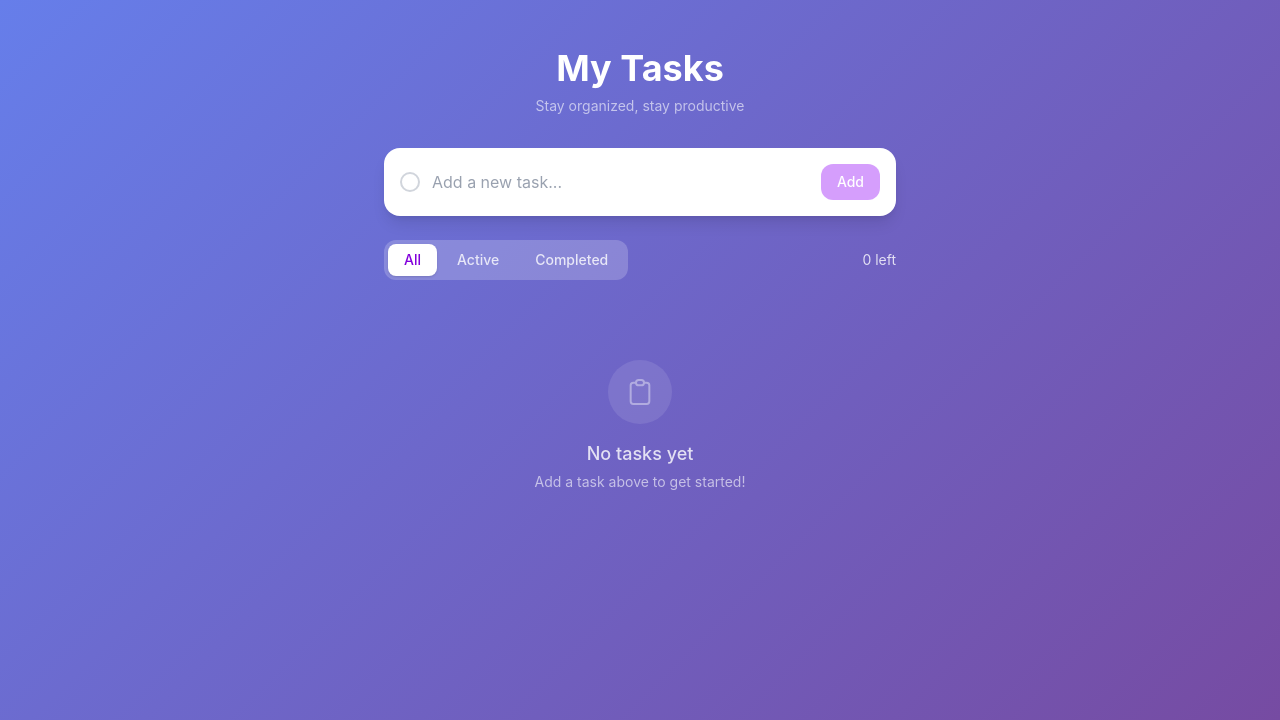
Test: App › タスクを追加すると TodoItem が表示される
In the field with placeholder "Add a new task...": (620,182) [432,170,809,194], type "New task"
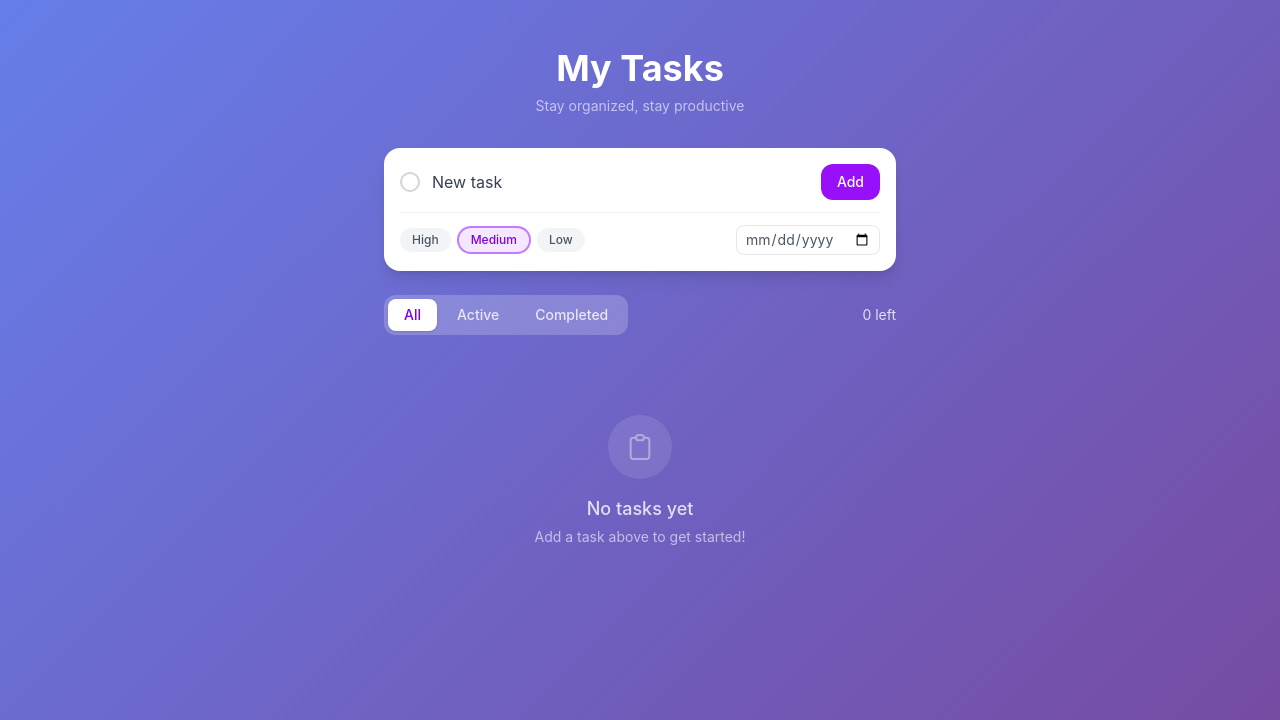
Click the button "Add": (850,182) [821,164,880,200]
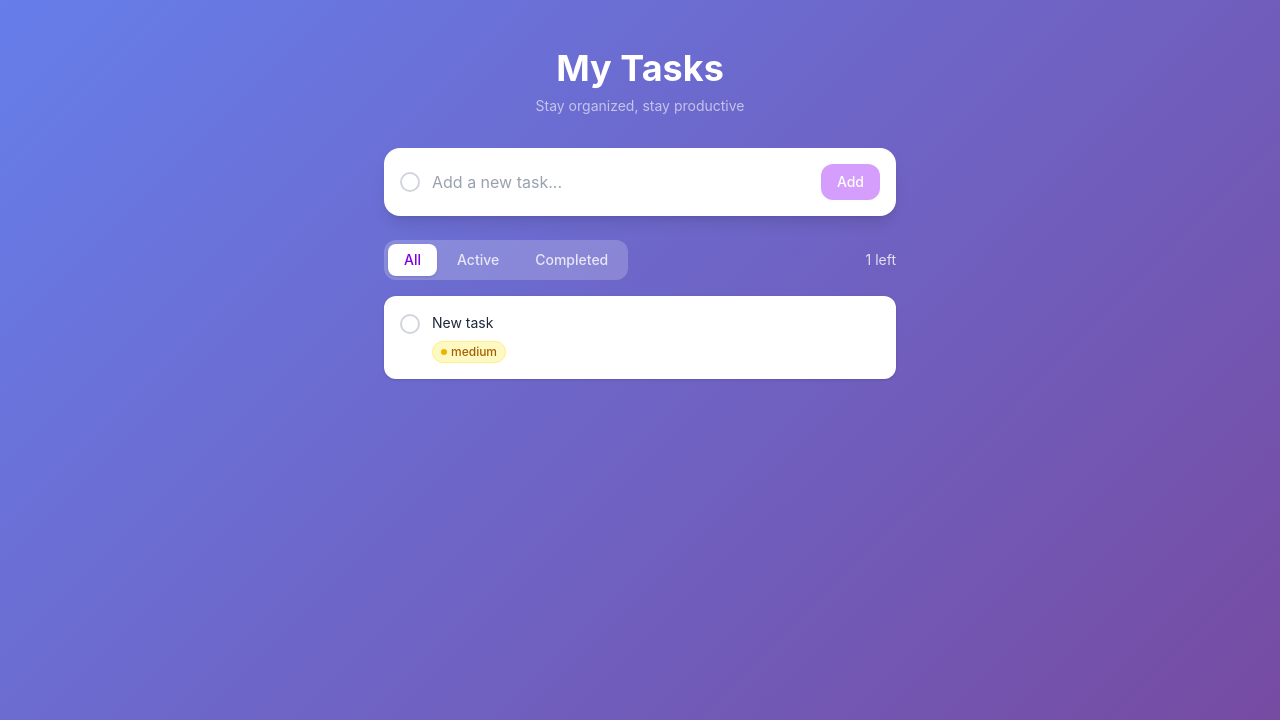
Now the text "New task" is shown, box [432,314,493,331]
Now the heading "No tasks yet" is gone
